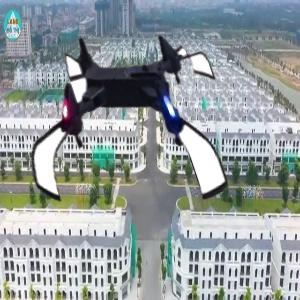drone: (17, 19, 231, 233)
